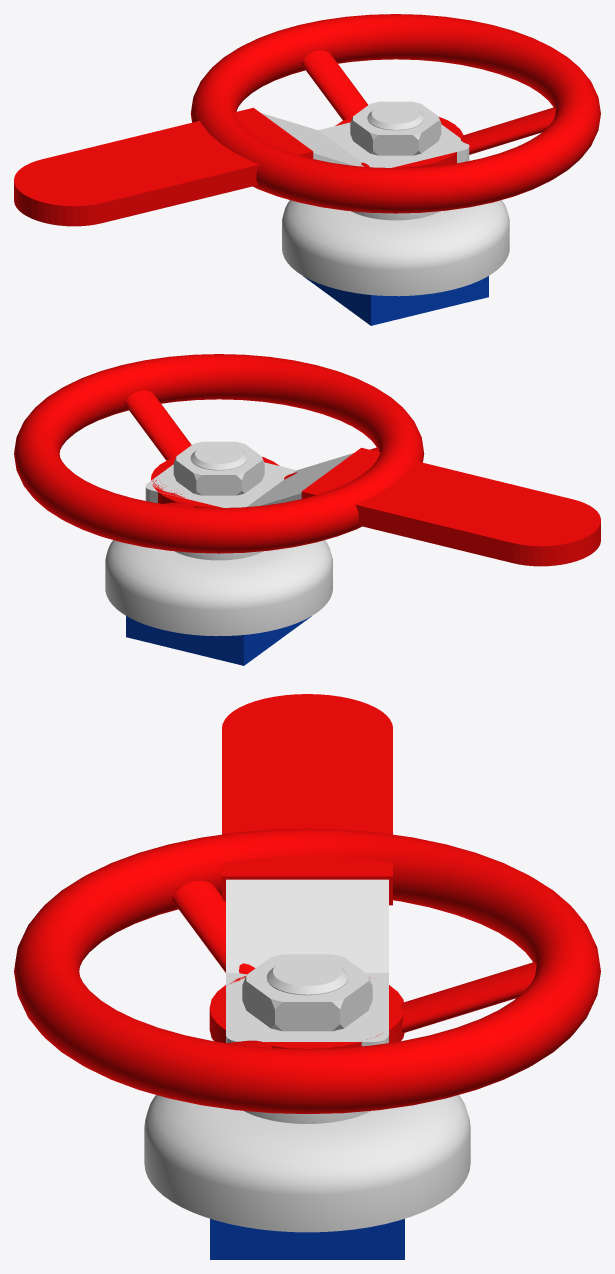
Rendered from ValveHandle.gltf.
The picture shows the model from 3 angles, top to bottom: view 1: azimuth 30°, elevation 25°; view 2: azimuth 150°, elevation 25°; view 3: azimuth 270°, elevation 25°; orthographic projection. The views are drawn at different scales.
Visible parts, largest first — view 1: Knob, Handle, body; view 2: Knob, Handle, body; view 3: Knob, Handle, body.
Part boxes in pixels (x1,y1,x2,y2): Knob: (190, 14, 600, 213); Handle: (14, 101, 469, 226); body: (282, 103, 509, 325); Knob: (14, 354, 424, 553); Handle: (145, 441, 600, 566); body: (105, 443, 332, 665); Knob: (14, 828, 600, 1113); Handle: (222, 694, 392, 1046); body: (144, 956, 470, 1259).
Size of the model in its own units: 0.2792 by 0.0956 by 0.18.
